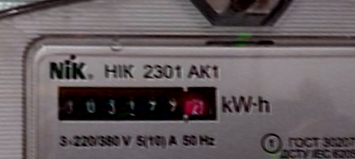0: (60, 95, 75, 115), (83, 94, 96, 114)
1: (125, 91, 136, 111)
3: (104, 96, 115, 116)
6: (188, 102, 200, 119)
9: (145, 93, 156, 112), (166, 95, 177, 114)
screen: (48, 65, 226, 143)
